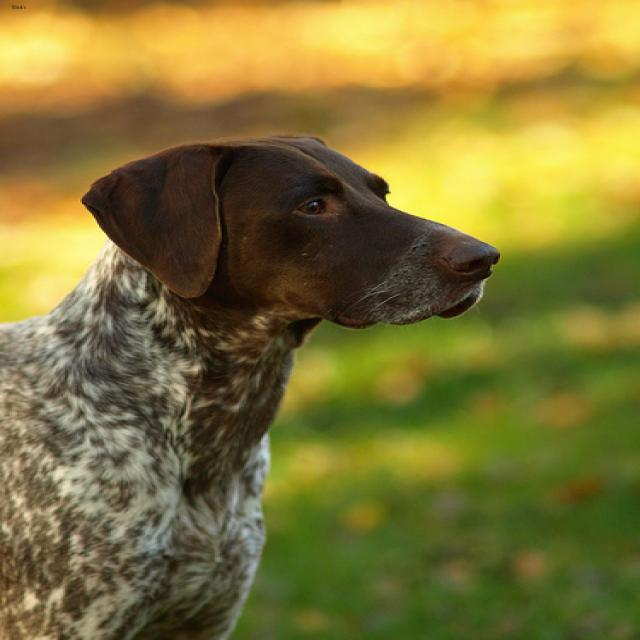dog-german_shorthaired: (2, 127, 517, 637)
